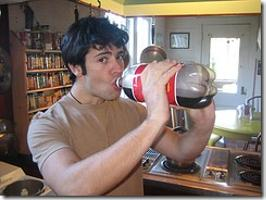person: (27, 14, 217, 196)
